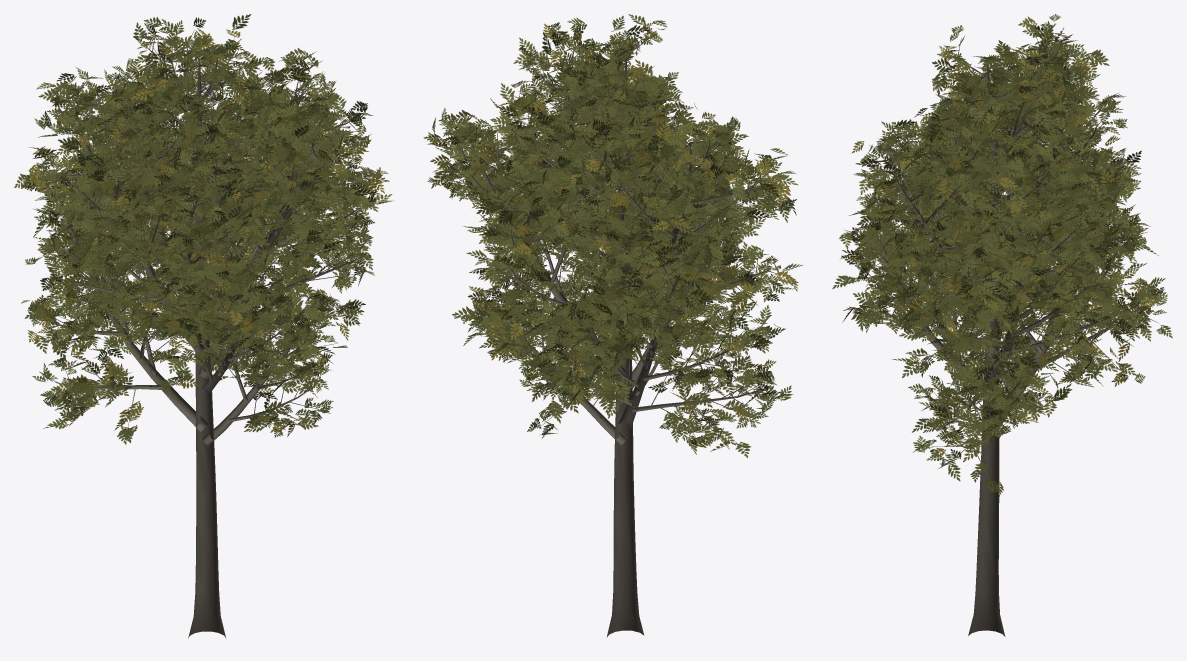
The model's file is broadleaf_b_near.glb.
3 renders of one model, left to right at view 1: azimuth 30°, elevation 25°; view 2: azimuth 150°, elevation 25°; view 3: azimuth 270°, elevation 25°, orthographic.
Visible parts, largest first — view 1: broadleaf_b_leaves, broadleaf_b_wood; view 2: broadleaf_b_leaves, broadleaf_b_wood; view 3: broadleaf_b_leaves, broadleaf_b_wood.
Boxes of the visible parts, x1,y1,x2,y2 form: broadleaf_b_leaves: [14, 14, 393, 444]; broadleaf_b_wood: [34, 29, 375, 638]; broadleaf_b_leaves: [423, 14, 802, 457]; broadleaf_b_wood: [436, 26, 785, 637]; broadleaf_b_leaves: [832, 14, 1172, 496]; broadleaf_b_wood: [851, 22, 1157, 636].
Size of the model in its own units: 11.44 by 18.63 by 9.56.
Materials: 2 (1 with a texture image).
